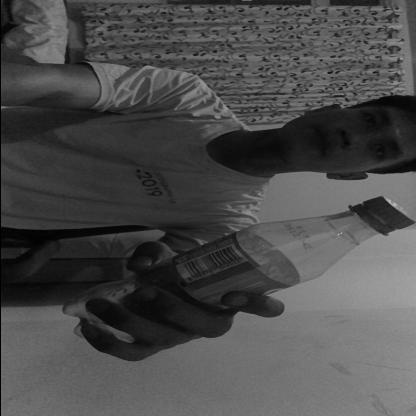plastic_bottles: (65, 193, 416, 347)
